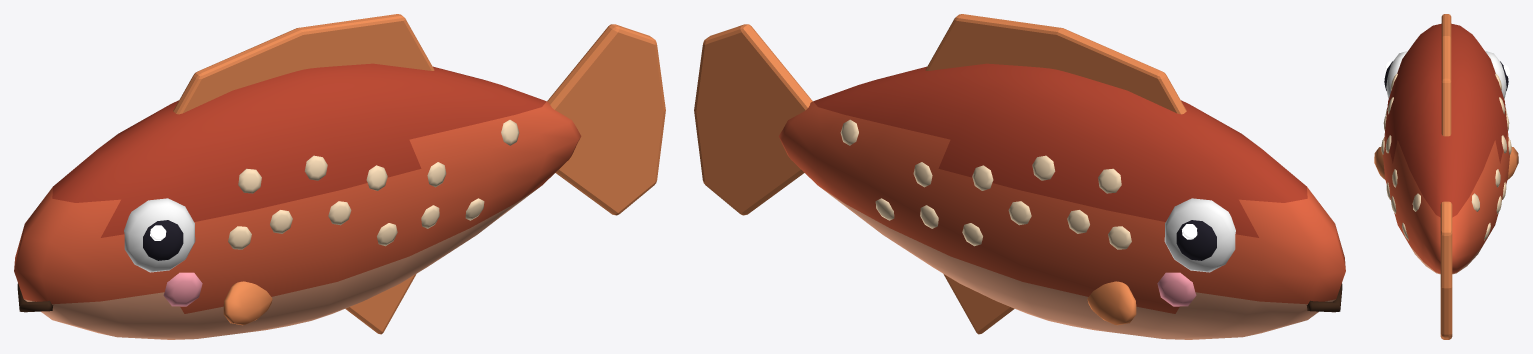
Rendered from peixe-garoupa.glb.
3 renders of one model, left to right at view 1: azimuth 30°, elevation 25°; view 2: azimuth 150°, elevation 25°; view 3: azimuth 270°, elevation 25°, orthographic. The views are drawn at different scales.
Parts seen in each view (by area): view 1: peixe-garoupa; view 2: peixe-garoupa; view 3: peixe-garoupa.
Part boxes in pixels (<box>): peixe-garoupa: <box>14,14,665,339</box>; peixe-garoupa: <box>694,14,1345,339</box>; peixe-garoupa: <box>1374,14,1518,339</box>.
Size of the model in its own units: 0.2845 by 0.1354 by 0.0747.
